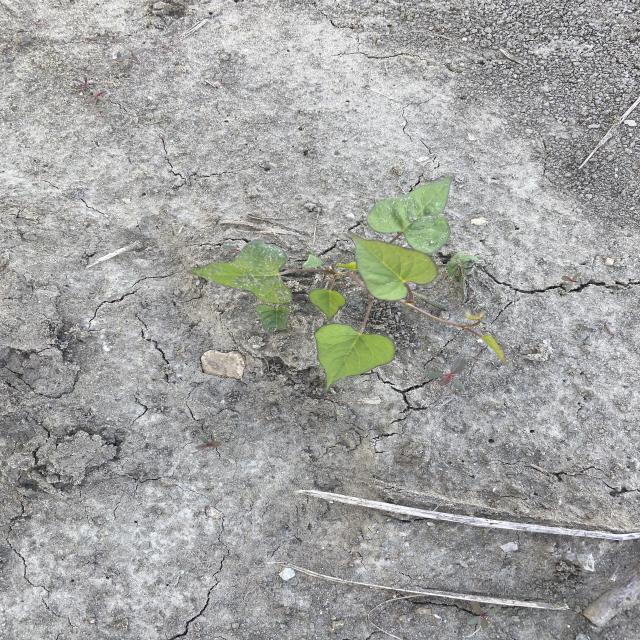MorningGlory: (184, 176, 510, 395)
